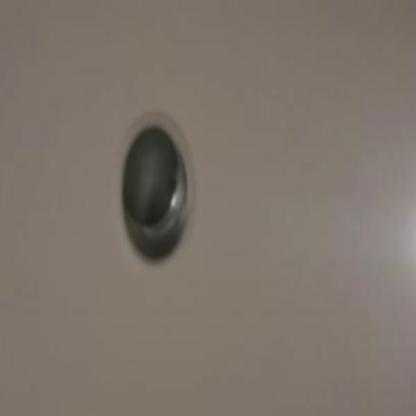light_off: (104, 61, 208, 314)
